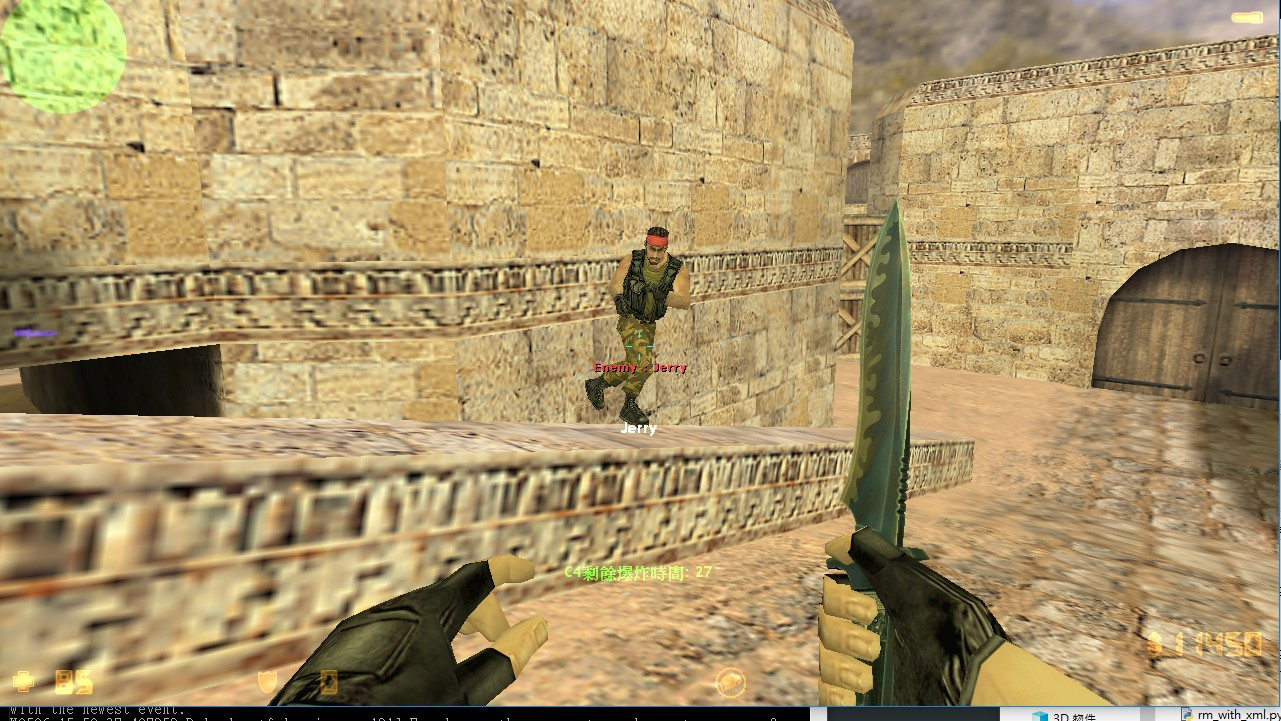person: (601, 218, 694, 436)
